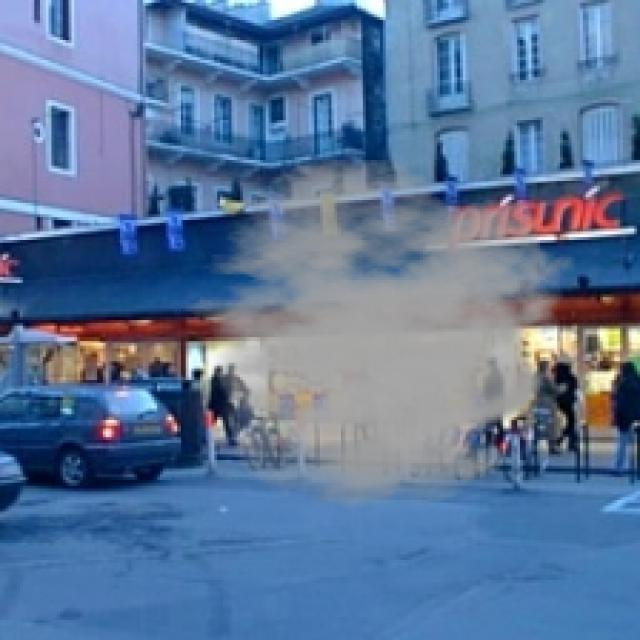Smoke: (162, 157, 578, 509)
